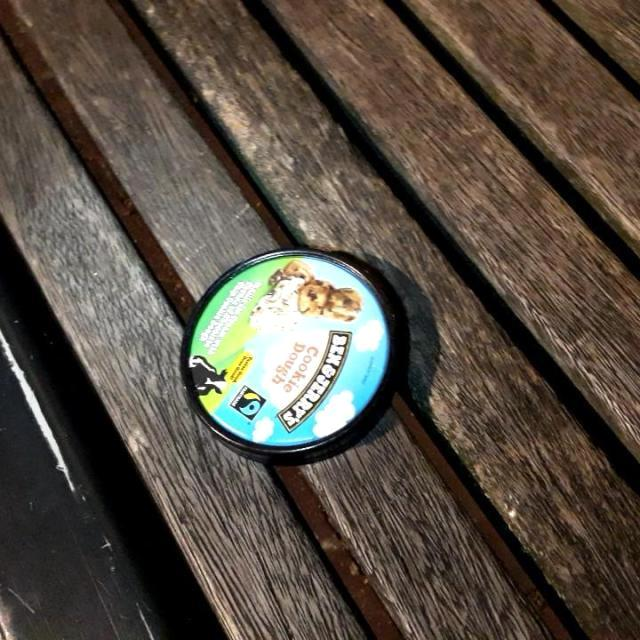Paper: (176, 242, 412, 468)
